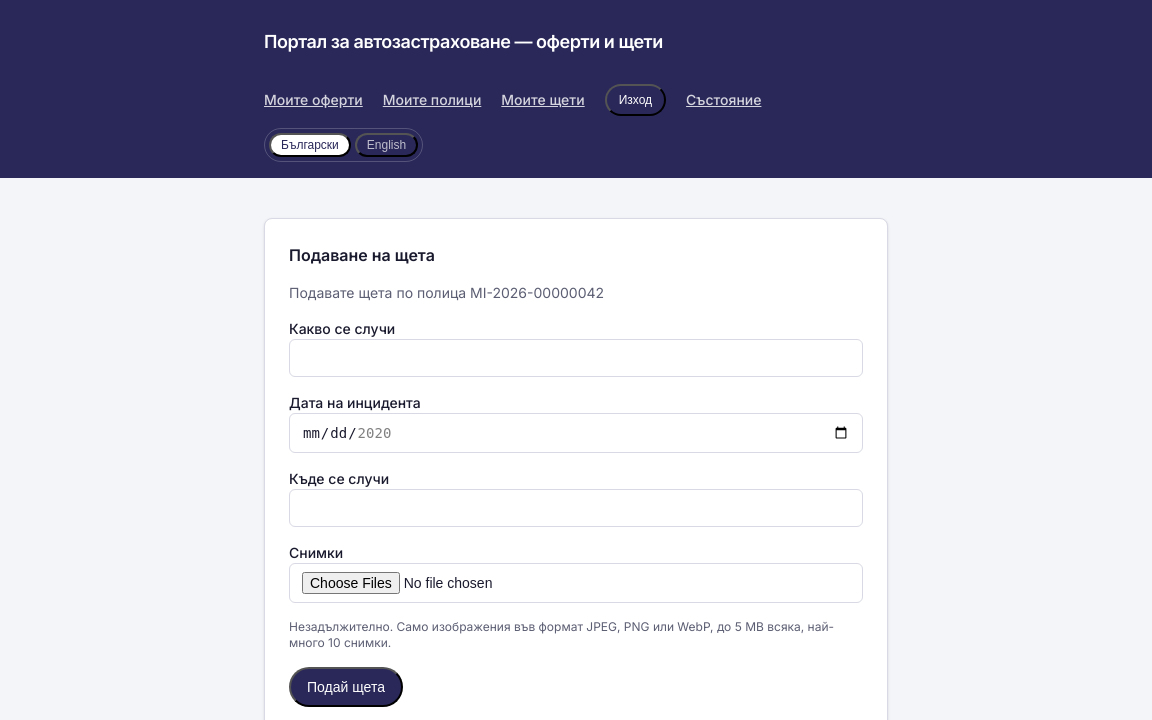
Scenario: FnolForm › preserves the submitted field values after a failed submission
Type "Rear bumper damage in a parking-lot collision." into the field labelled "Какво се случи". click: (576, 358)
box: [289,339,863,377]
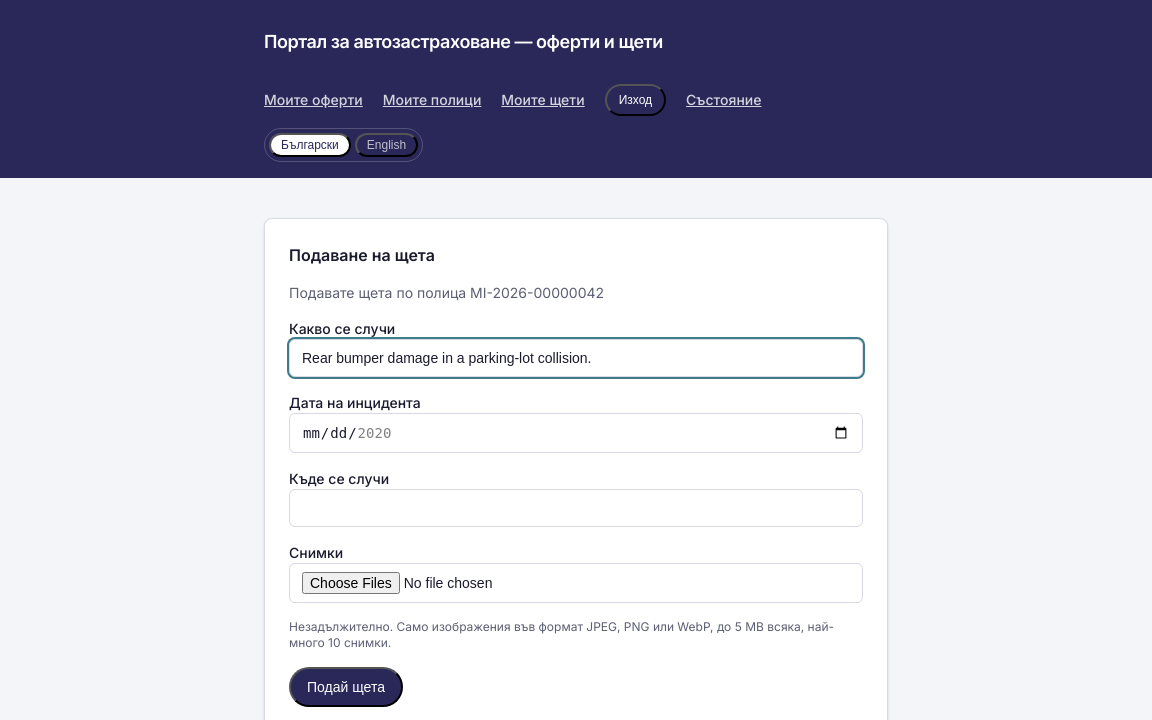
Type "2020-06-01" into the date field labelled "Дата на инцидента". click: (576, 433)
box: [289,413,863,453]
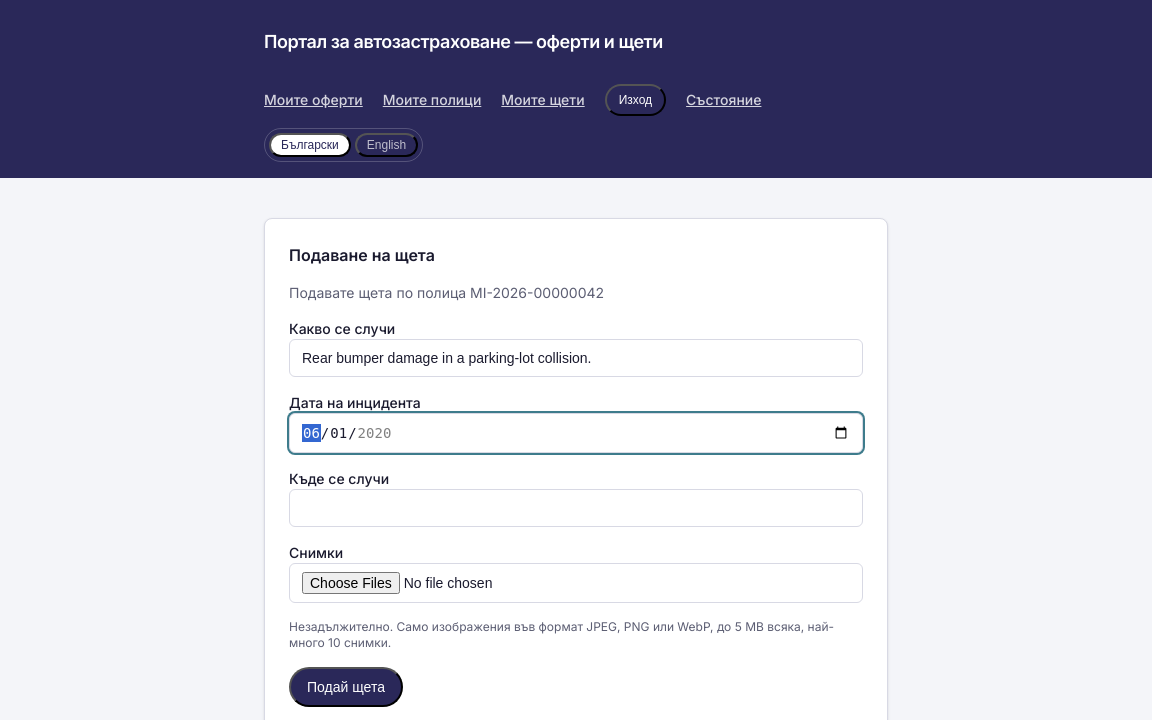
Type "Sofia, near NDK" into the field labelled "Къде се случи". click: (576, 508)
box: [289,489,863,527]
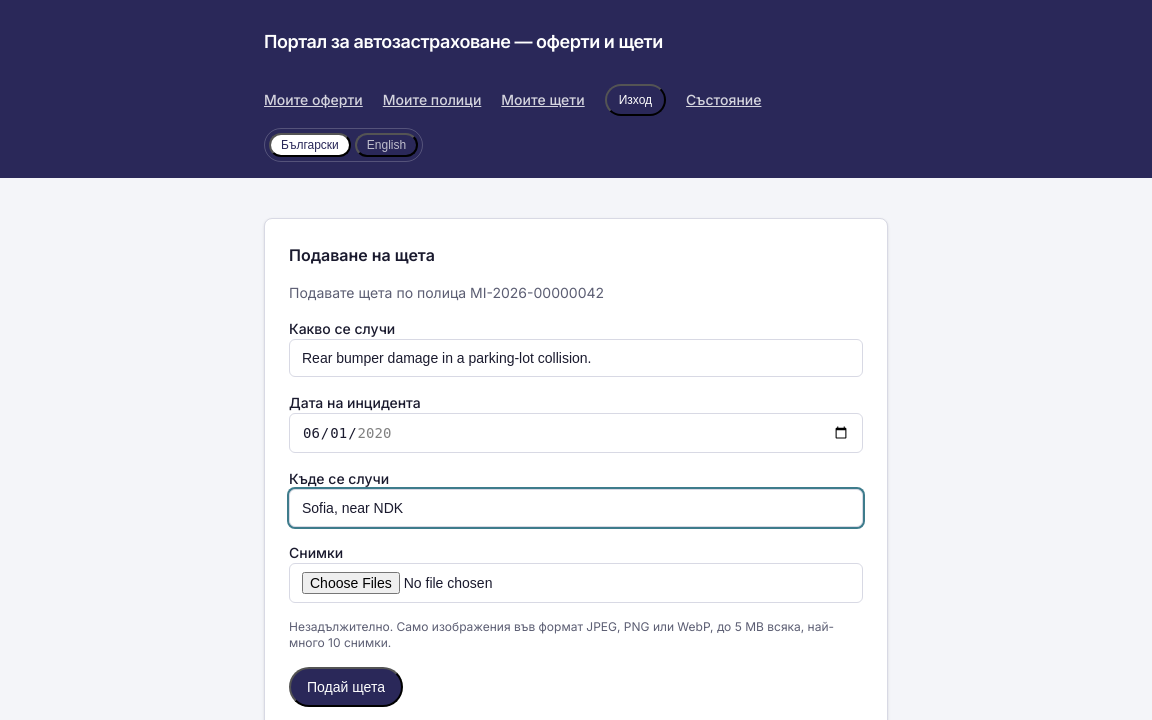
Click the button "Подай щета". click: (346, 687)
box: [289,667,403,707]
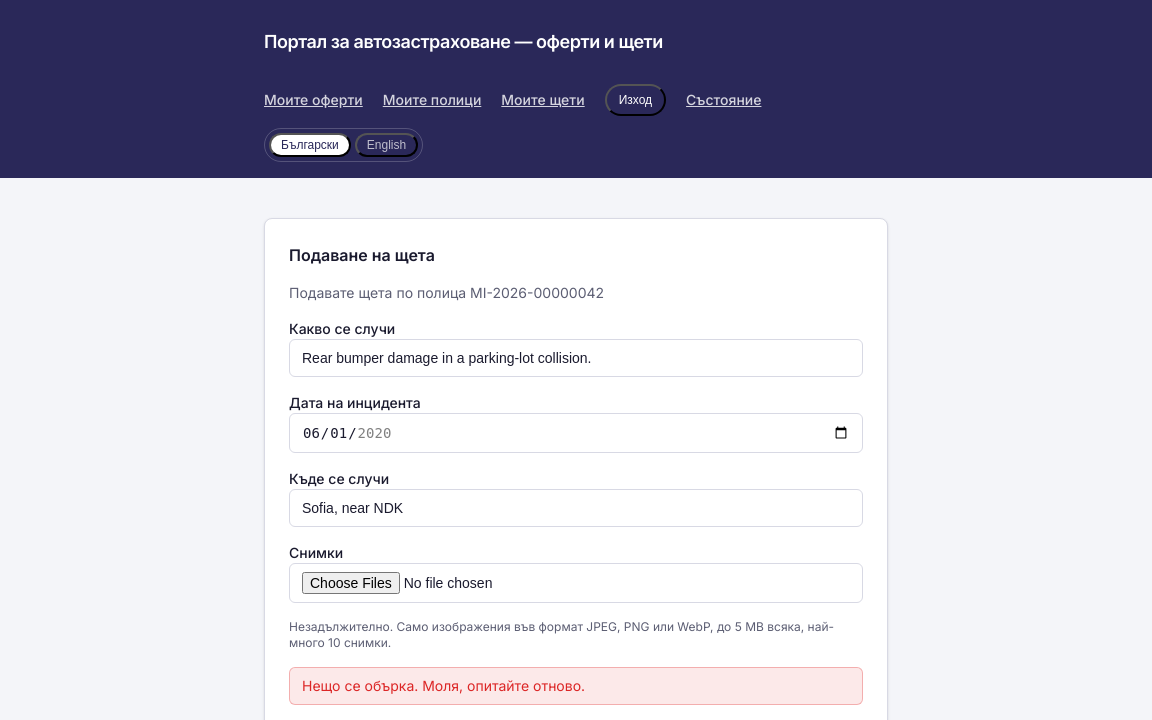
expect the message "Нещо се обърка. Моля, опитайте отново." is shown: met, box [289,667,863,705]
